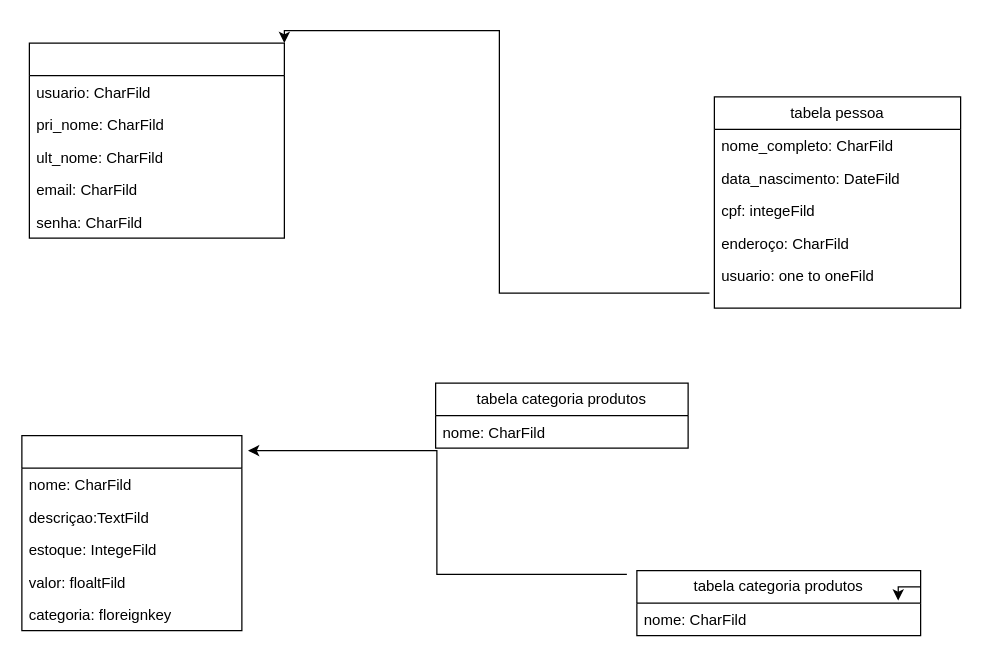
The diagram is 983 pixels wide and 661 high, and some of its shapes have lost their labels. The box of each missing label's shape, as (x1, y1, x2, y2) in pixels:
tabela produto: (21, 434, 242, 631)
tabela usuario: (28, 42, 284, 238)
